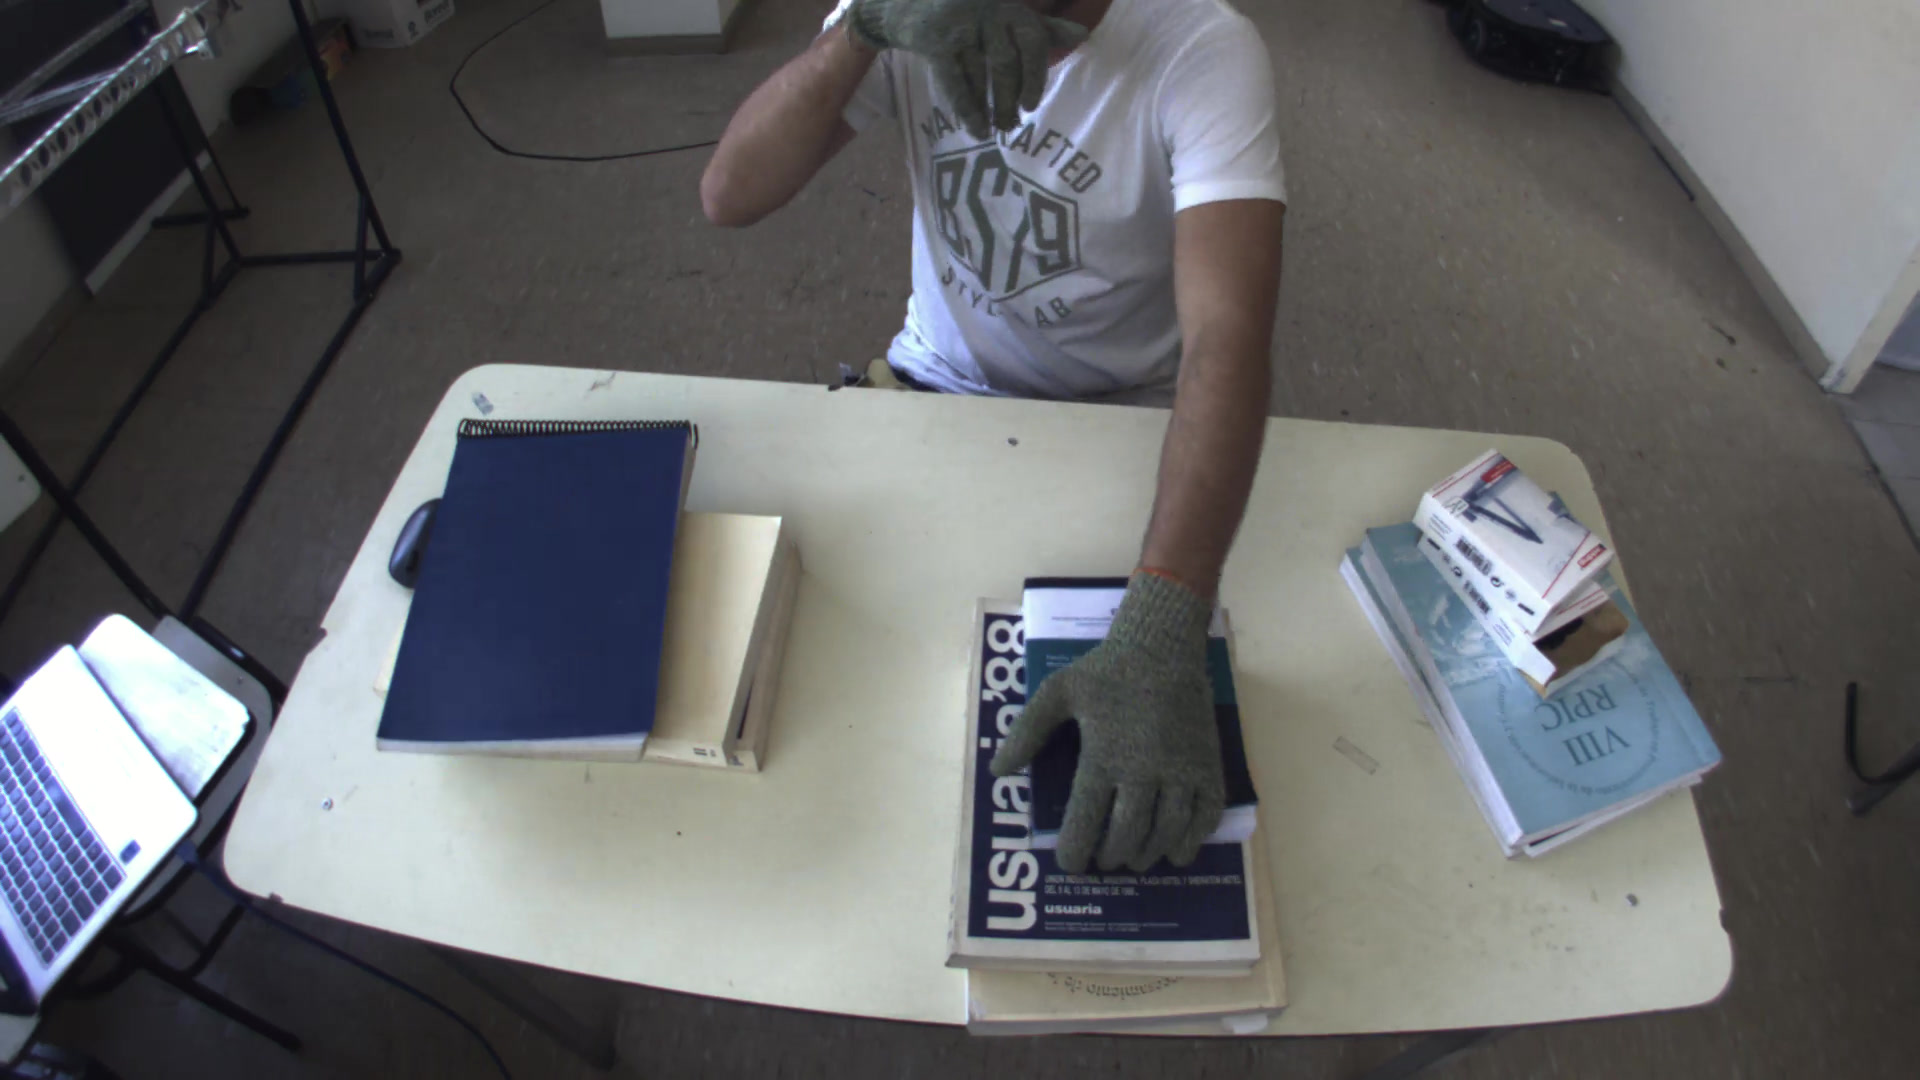hand: (985, 574, 1242, 886), (829, 1, 1091, 137)
